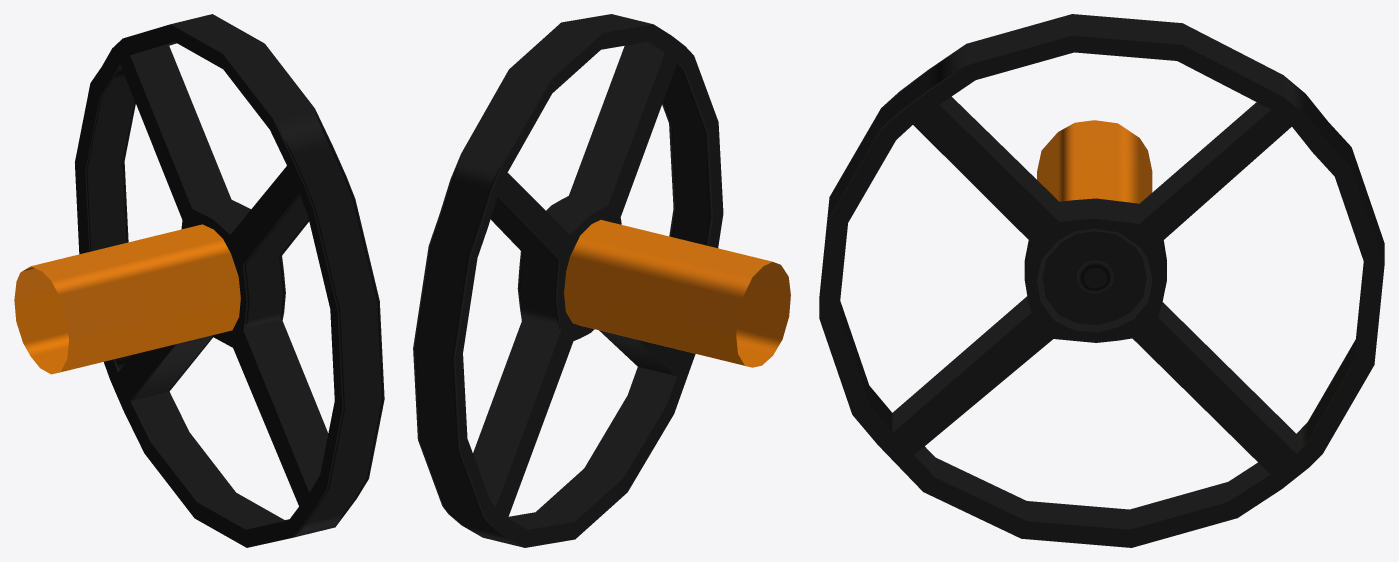
Rendered from VolanteCarro.fbx.
The picture shows the model from 3 angles, left to right: view 1: azimuth 30°, elevation 25°; view 2: azimuth 150°, elevation 25°; view 3: azimuth 270°, elevation 25°; orthographic projection. The views are drawn at different scales.
Visible parts, largest first — view 1: VolanteCarro; view 2: VolanteCarro; view 3: VolanteCarro.
Part boxes in pixels (x1,y1,x2,y2): VolanteCarro: [14, 14, 384, 547]; VolanteCarro: [413, 14, 790, 547]; VolanteCarro: [819, 14, 1384, 547].
Size of the model in its own units: 19.41 by 42.33 by 42.33.
